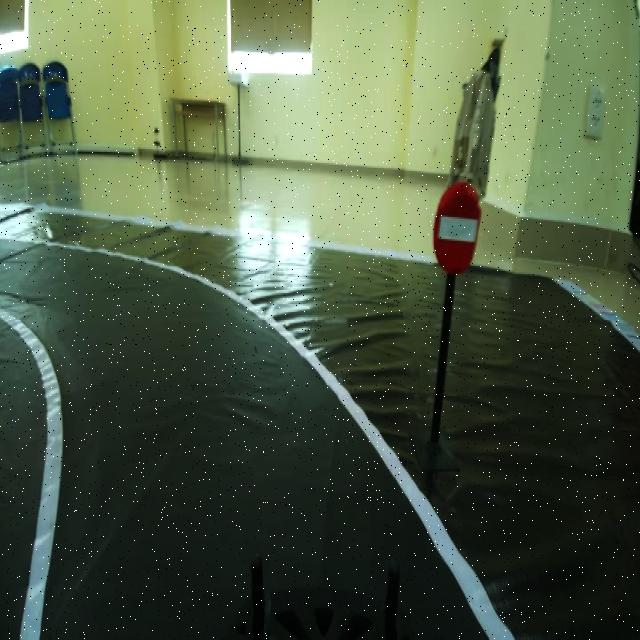no_entry: (436, 174, 482, 280)
